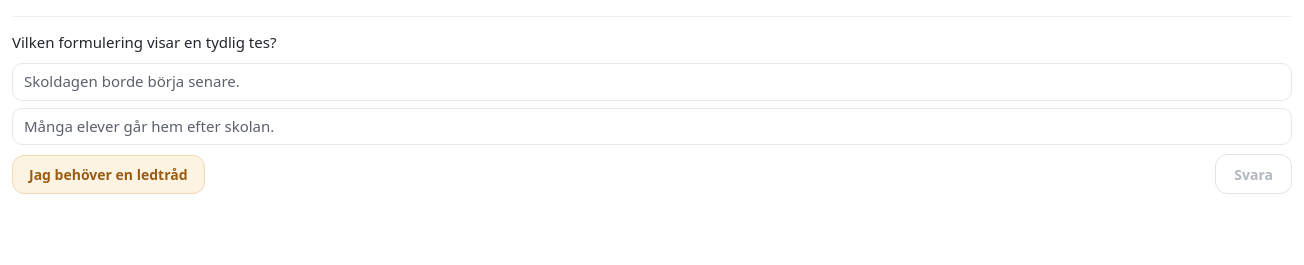
Test case: lesson check-in › offers a hint when the student is allowed to use support
The image size is (1304, 265).
Click the button "Jag behöver en ledtråd". click: (108, 174)
box: [12,155,204,194]
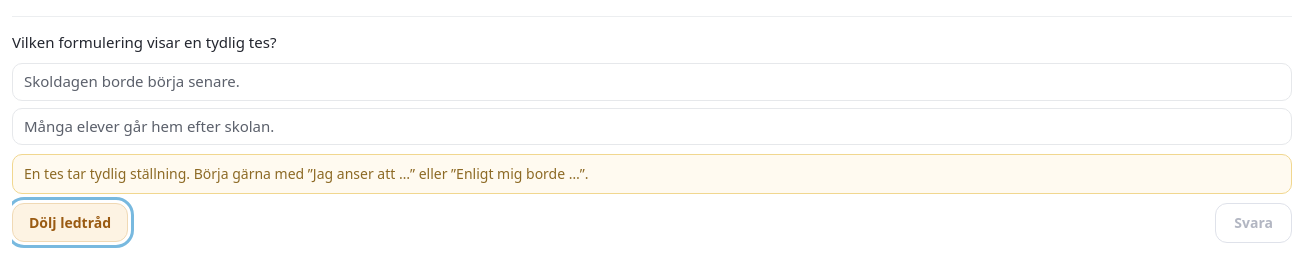
Expected: the text "En tes tar tydlig ställning. Börja gärna med ”Jag anser att …” eller ”Enligt mig borde …”." is shown, [24,164,589,183]
